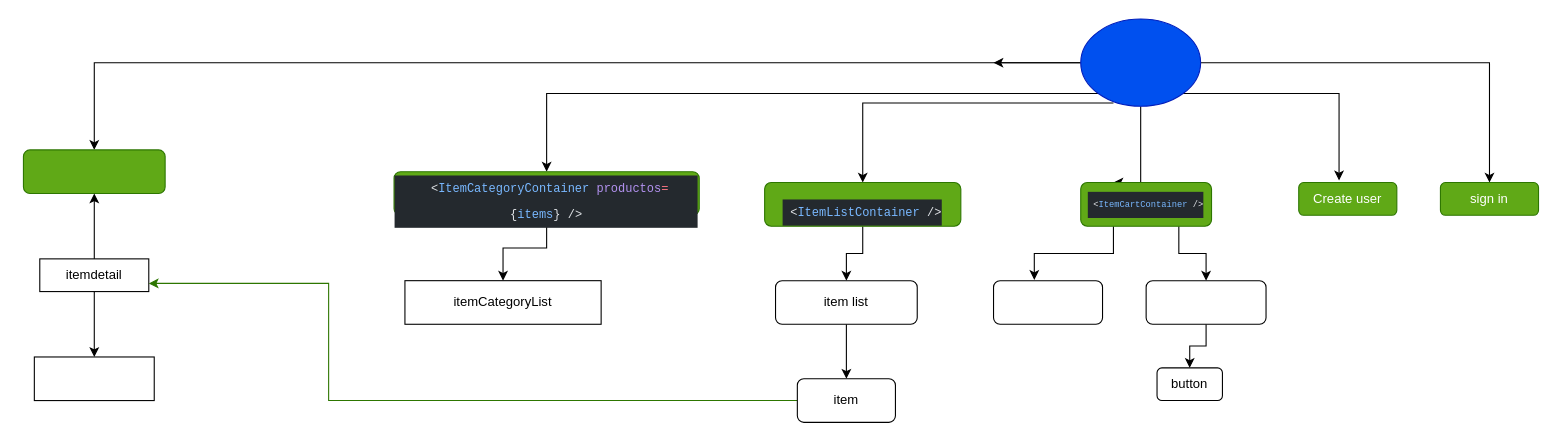
The diagram is 1558 pixels wide and 441 high, and some of its shapes have lost their labels. The shapes that lost their labels are listed below. From the top down, each one's centre as x and y in pixels, then its label:
At point (1140, 62): "App.js".
At point (93, 171): "ItemDetailContainer < / >".
At point (1047, 302): "itemCartNone".
At point (1205, 302): "ItemCart".
At point (93, 378): "add to cart".
